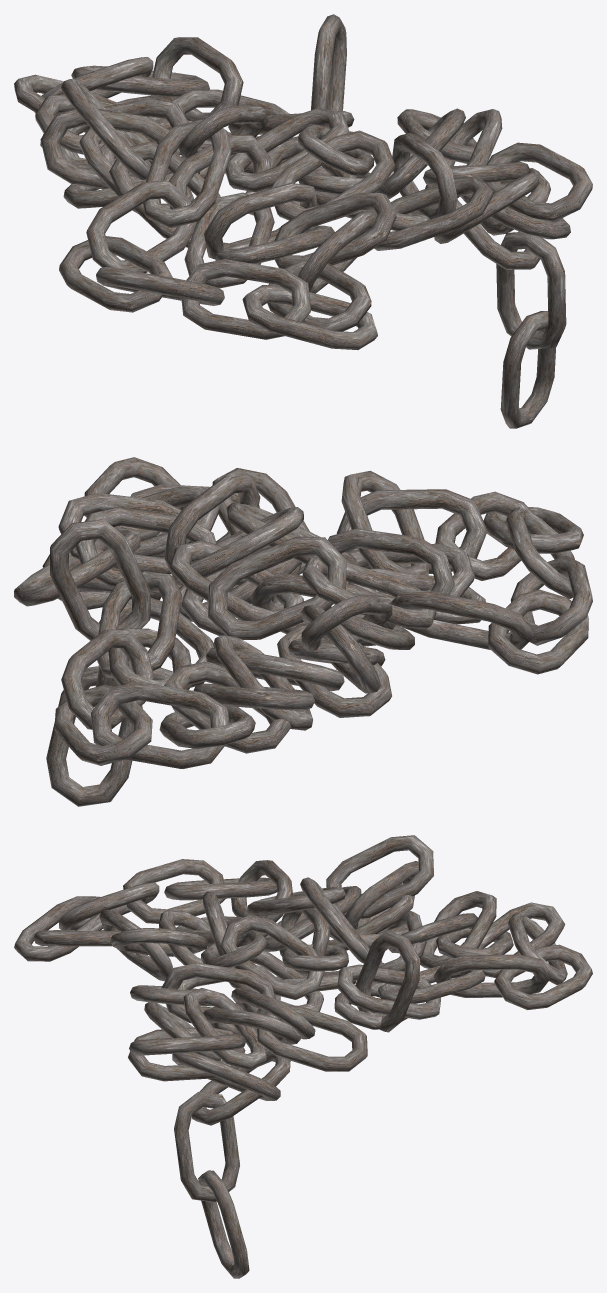
3 views of the same model, one above another, from view 1: azimuth 30°, elevation 25°; view 2: azimuth 150°, elevation 25°; view 3: azimuth 270°, elevation 25° (orthographic). The views are drawn at different scales.
Parts seen in each view (by area): view 1: Sweep_5, Sweep_6, Sweep_48, Sweep_1, Sweep_2, Sweep_9, Sweep_49, Sweep_3, Sweep_37, Sweep_43, Sweep_19, Sweep_15 (+35 smaller); view 2: Sweep_0, Sweep_32, Sweep_27, Sweep_2, Sweep_3, Sweep_8, Sweep_29, Sweep_28, Sweep_31, Sweep_49, Sweep_1, Sweep_9 (+34 smaller); view 3: Sweep_48, Sweep_40, Sweep_18, Sweep_14, Sweep_29, Sweep_49, Sweep_32, Sweep_28, Sweep_42, Sweep_4, Sweep_31, Sweep_6 (+34 smaller).
Part boxes in pixels (box(x1,y1,x2,y2)): Sweep_5: box(181, 259, 311, 339); Sweep_6: box(242, 285, 377, 349); Sweep_48: box(496, 232, 566, 349); Sweep_1: box(143, 119, 231, 228); Sweep_2: box(86, 180, 195, 272); Sweep_9: box(274, 192, 396, 268); Sweep_49: box(500, 311, 555, 428); Sweep_3: box(59, 236, 172, 312); Sweep_37: box(374, 176, 492, 250); Sweep_43: box(486, 142, 592, 221); Sweep_19: box(40, 108, 177, 189); Sweep_15: box(225, 108, 349, 192); Sweep_0: box(207, 537, 346, 639); Sweep_32: box(50, 519, 150, 640); Sweep_27: box(90, 681, 229, 768); Sweep_2: box(391, 590, 534, 649); Sweep_3: box(488, 589, 588, 674); Sweep_8: box(336, 489, 487, 573); Sweep_29: box(61, 629, 154, 729); Sweep_28: box(54, 684, 152, 765); Sweep_31: box(97, 571, 181, 677); Sweep_49: box(46, 666, 142, 806); Sweep_1: box(302, 557, 436, 629); Sweep_9: box(341, 470, 429, 575); Sweep_48: box(174, 1091, 239, 1202); Sweep_40: box(257, 1005, 367, 1071); Sweep_18: box(326, 835, 433, 918); Sweep_14: box(220, 915, 324, 999); Sweep_29: box(433, 954, 551, 997); Sweep_49: box(198, 1170, 249, 1278); Sweep_32: box(356, 930, 420, 1032); Sweep_28: box(494, 944, 592, 1009); Sweep_42: box(183, 988, 266, 1069); Sweep_4: box(123, 859, 225, 923); Sweep_31: box(337, 964, 440, 1019); Sweep_6: box(14, 896, 113, 961).
Bounding box in the file's own units: 1836 × 1306 × 2267.
Materials: 1 (1 with a texture image).
